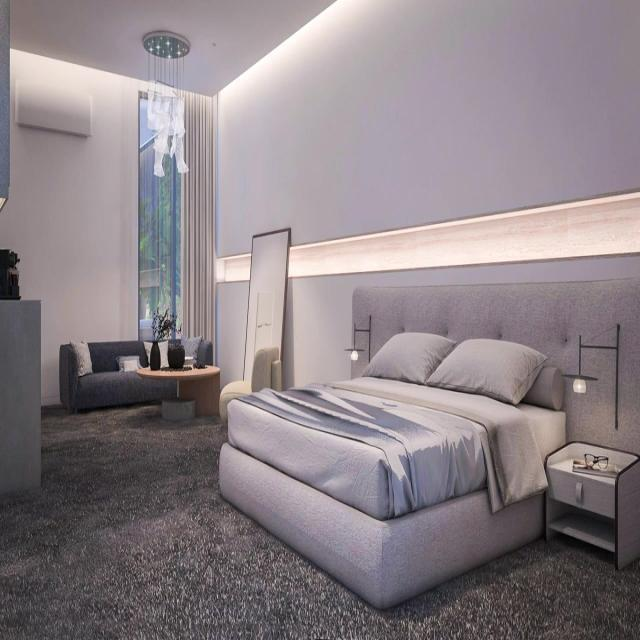obstacle: (221, 283, 566, 609), (58, 335, 214, 413), (218, 346, 282, 425), (136, 362, 220, 420)
